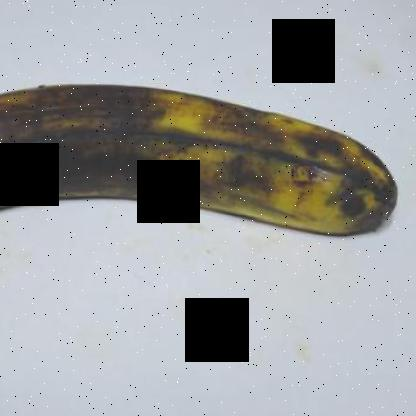overripe: (1, 53, 403, 286)
